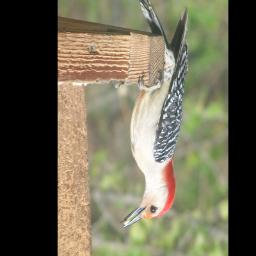Woodpecker: (119, 0, 188, 229)
